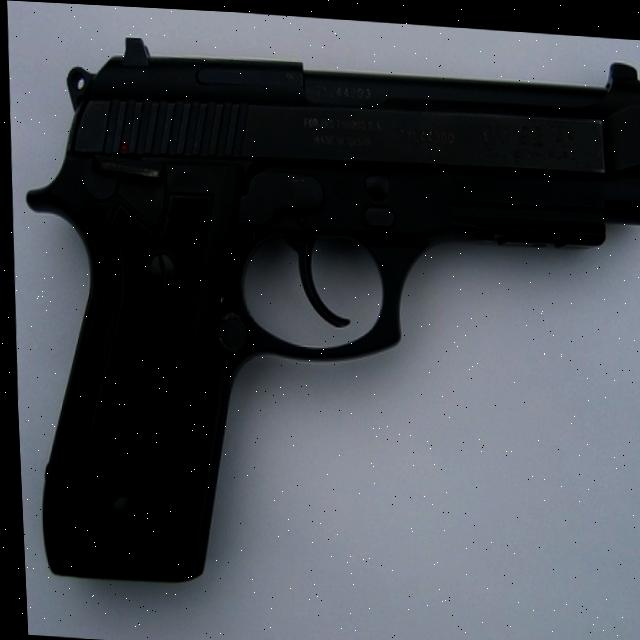pistol: (8, 18, 640, 611)
